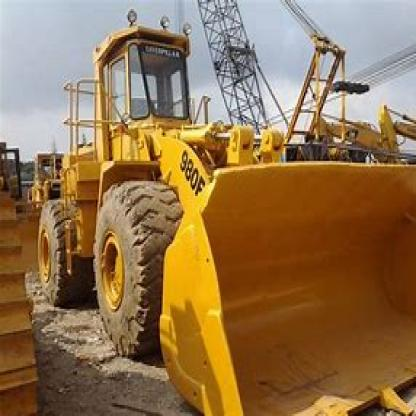bull_dozer/loader/grader: (20, 15, 414, 414)
